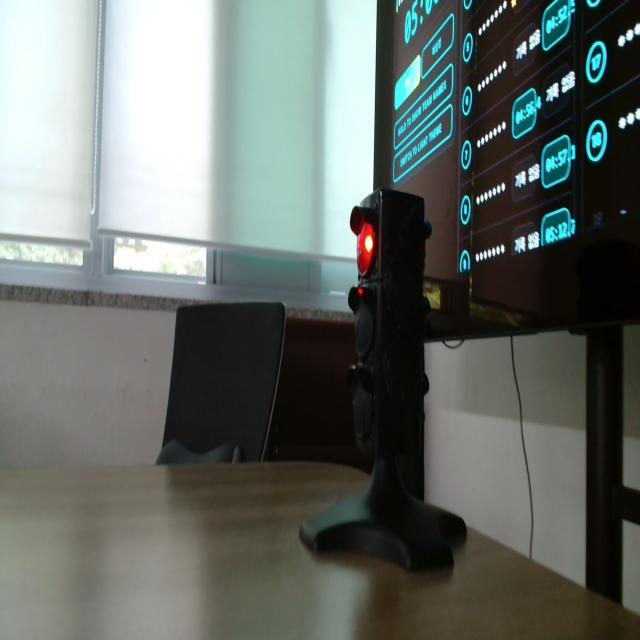red_light: (357, 222, 375, 276), (358, 287, 364, 297)
